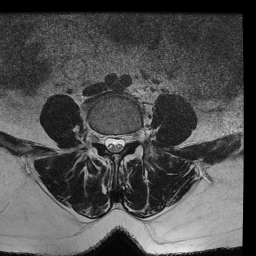CCS_normal: (110, 126, 117, 160)
LFS_normal: (126, 123, 134, 150)
LLS_normal: (117, 125, 126, 156)
RFS_normal: (94, 123, 102, 151)
RLS_normal: (102, 126, 110, 154)
